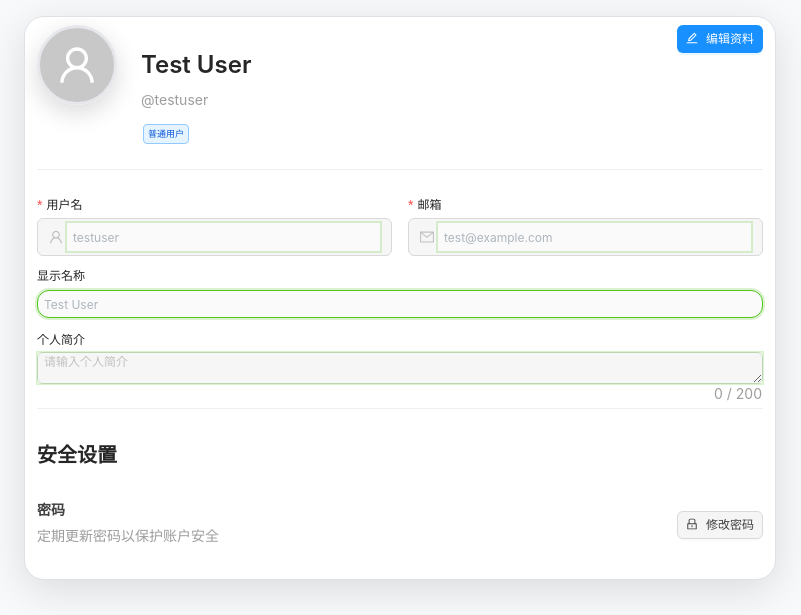
Scenario: UserProfile › should enable edit mode when clicking edit button
Click the button named "edit 编辑资料".
click(720, 39)  # box [677,25,763,53]
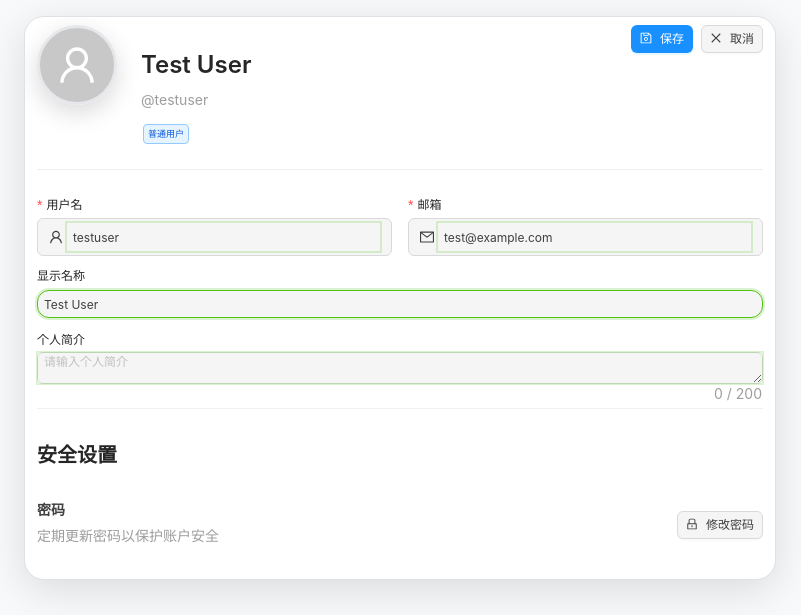
Check: the button named "close 取消" is shown, box [701,25,763,53]
Check: the button named "save 保存" is shown, box [631,25,693,53]
